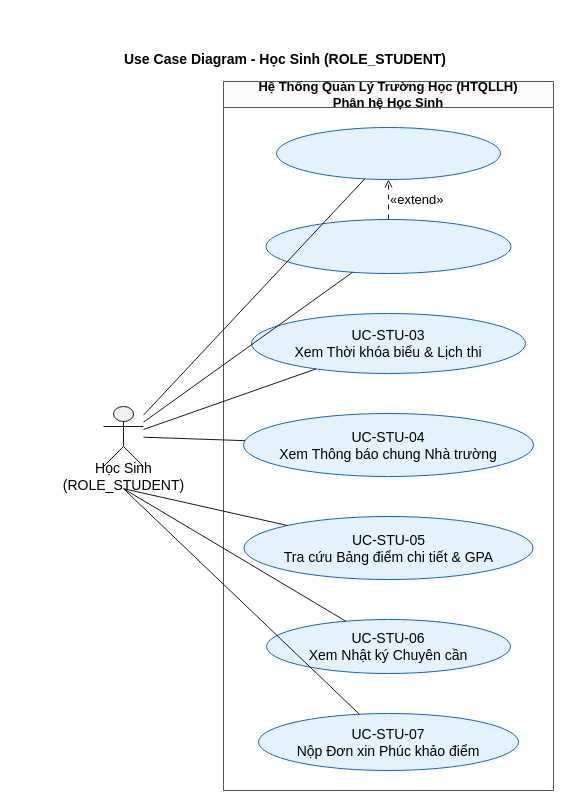
This 571x808 diagram has some shape labels left out. Each missing label, with the centre of its shape:
"UC-STU-01 Đăng nhập / Đăng xuất" belongs at (x=388, y=153).
"UC-STU-02 Đổi / Khôi phục mật khẩu" belongs at (x=388, y=246).
